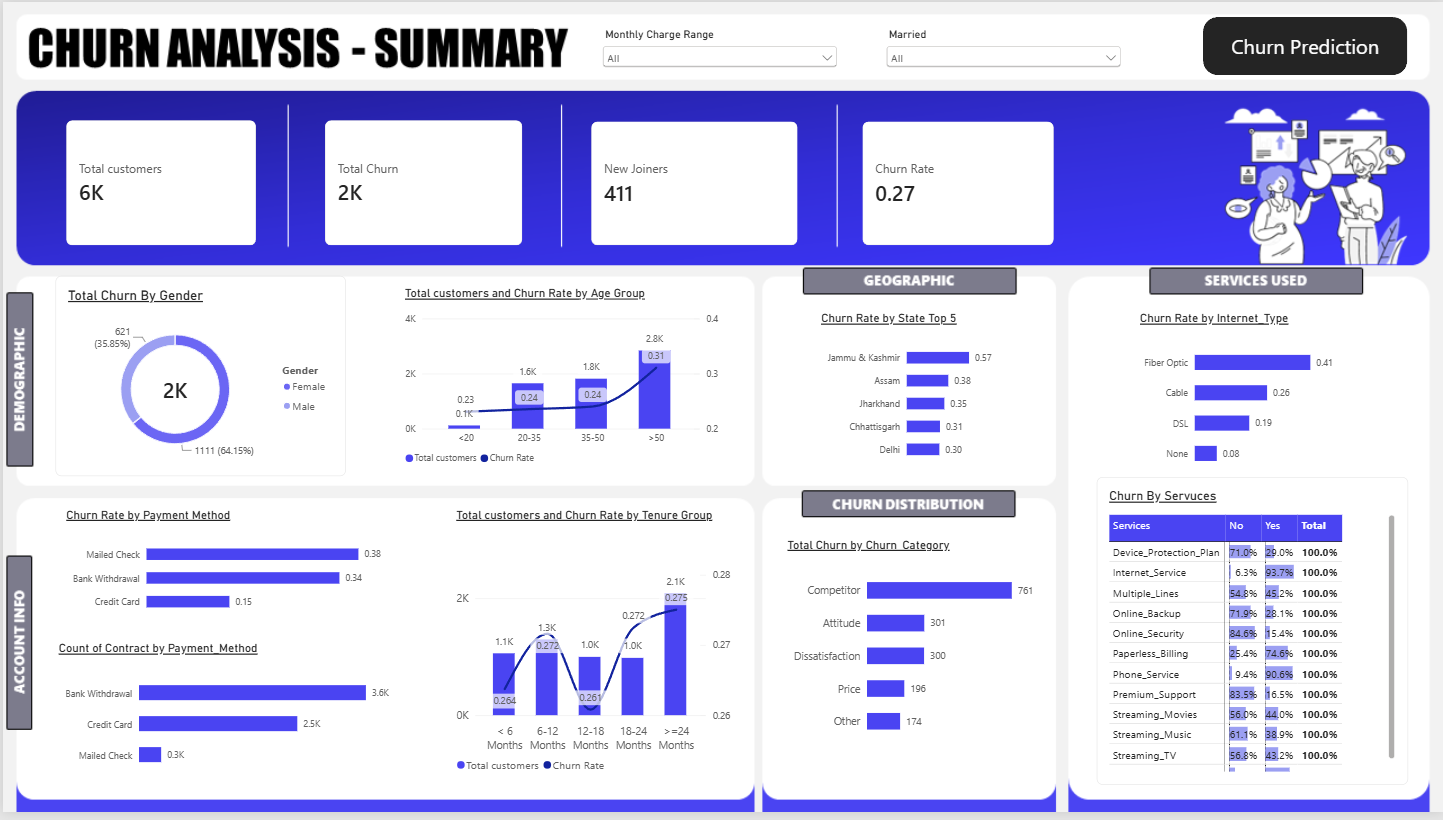

Layout of this report page (visuals, bound fields, positions):
{"tool":"powerbi","page":{"name":"Summary","canvas":[1920,1080],"ordinal":0},"visuals":[{"type":"cardVisual","fields":{"Data":["tbl_Measure.Total customers"]},"box":[67.5,142.5,285,197.5],"z":0},{"type":"cardVisual","fields":{"Data":["tbl_Measure.New Joiners"]},"box":[767.5,145,307.5,195],"z":1000},{"type":"cardVisual","fields":{"Data":["tbl_Measure.Total Churn"]},"box":[412.5,142.5,295,197.5],"z":2000},{"type":"cardVisual","fields":{"Data":["tbl_Measure.Churn Rate"]},"box":[1130,145,287.5,195],"z":3000},{"type":"donutChart","title":"Total Churn By Gender","fields":{"Category":["prod_Churn.Gender"],"Y":["tbl_Measure.Total Churn"]},"box":[70,365,387.5,267.5],"z":4000},{"type":"lineStackedColumnComboChart","fields":{"Category":["Mapping_AgeGrp.Age Group"],"Y":["tbl_Measure.Total customers"],"Y2":["tbl_Measure.Churn Rate"]},"box":[520,365,450,272.5],"z":5000},{"type":"clusteredBarChart","title":"Churn Rate by Payment Method","fields":{"Category":["prod_Churn.Payment_Method"],"Y":["tbl_Measure.Churn Rate"]},"box":[67.5,660,452.5,177.5],"z":6000},{"type":"clusteredBarChart","fields":{"Category":["prod_Churn.Payment_Method"],"Y":["CountNonNull(prod_Churn.Contract)"]},"box":[57.5,837.5,477.5,210],"z":7000},{"type":"lineStackedColumnComboChart","fields":{"Category":["Mapping_TenureGrp.Tenure Group"],"Y":["tbl_Measure.Total customers"],"Y2":["tbl_Measure.Churn Rate"]},"box":[587.5,660,400,387.5],"z":8000},{"type":"clusteredBarChart","title":"Churn Rate by State Top 5","fields":{"Category":["prod_Churn.State"],"Y":["tbl_Measure.Churn Rate"]},"box":[1075,397.5,260,235],"z":9000},{"type":"clusteredBarChart","fields":{"Category":["prod_Churn.Churn_Category"],"Y":["tbl_Measure.Total Churn"]},"box":[1030,700,360,305],"z":10000},{"type":"clusteredBarChart","fields":{"Category":["prod_Churn.Internet_Type"],"Y":["tbl_Measure.Churn Rate"]},"box":[1500,397.5,330,247.5],"z":11000},{"type":"pivotTable","title":"Churn By Servuces","fields":{"Columns":["prod_services.Status"],"Rows":["prod_services.Services"],"Values":["Sum(prod_services.Churn Status)"]},"box":[1457.5,632.5,415,410],"z":12000},{"type":"slicer","fields":{"Values":["prod_Churn.Monthly Charge Status"]},"box":[795,35,322,62],"z":13000},{"type":"slicer","fields":{"Values":["prod_Churn.Married"]},"box":[1172.5,35,322,78],"z":14000},{"type":"shape","box":[1600,20,272.5,77.5],"z":14001}]}

Visuals, with their boxes in screenshot pixels (x1, y1, x2, y2), scaled from the page's 1920x1080 canvas onto the 1443x820 screenshot:
cardVisual - tbl_Measure.Total customers: <box>51,108,265,258</box>
cardVisual - tbl_Measure.New Joiners: <box>577,110,808,258</box>
cardVisual - tbl_Measure.Total Churn: <box>310,108,532,258</box>
cardVisual - tbl_Measure.Churn Rate: <box>849,110,1065,258</box>
"Total Churn By Gender" donutChart: <box>53,277,344,480</box>
lineStackedColumnComboChart - Mapping_AgeGrp.Age Group x tbl_Measure.Total customers: <box>391,277,729,484</box>
"Churn Rate by Payment Method" clusteredBarChart: <box>51,501,391,636</box>
clusteredBarChart - prod_Churn.Payment_Method x CountNonNull(prod_Churn.Contract): <box>43,636,402,795</box>
lineStackedColumnComboChart - Mapping_TenureGrp.Tenure Group x tbl_Measure.Total customers: <box>442,501,742,795</box>
"Churn Rate by State Top 5" clusteredBarChart: <box>808,302,1003,480</box>
clusteredBarChart - prod_Churn.Churn_Category x tbl_Measure.Total Churn: <box>774,531,1045,763</box>
clusteredBarChart - prod_Churn.Internet_Type x tbl_Measure.Churn Rate: <box>1127,302,1375,490</box>
"Churn By Servuces" pivotTable: <box>1095,480,1407,792</box>
slicer - prod_Churn.Monthly Charge Status: <box>597,27,839,74</box>
slicer - prod_Churn.Married: <box>881,27,1123,86</box>
shape: <box>1202,15,1407,74</box>
